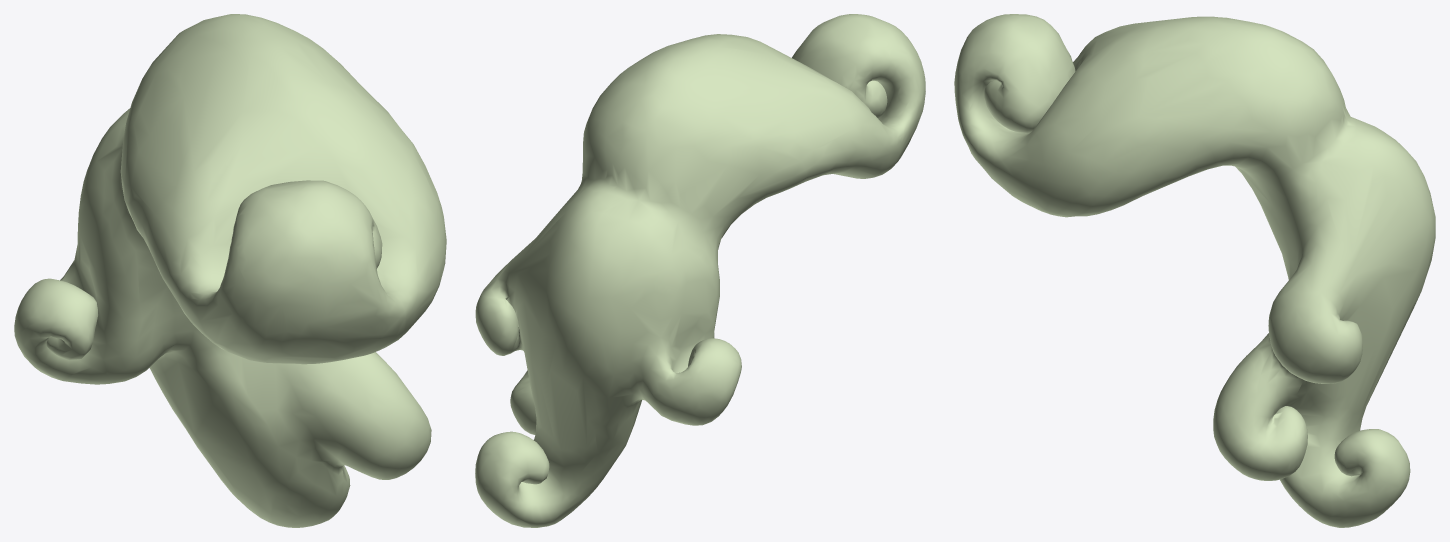
File: Mane_08.fbx
3 views of the same model, side by side, from view 1: azimuth 30°, elevation 25°; view 2: azimuth 150°, elevation 25°; view 3: azimuth 270°, elevation 25° (orthographic). The views are drawn at different scales.
Parts seen in each view (by area): view 1: Mane_08; view 2: Mane_08; view 3: Mane_08.
Boxes of the visible parts, x1=… form: Mane_08: x1=14, y1=14, x2=446, y2=527; Mane_08: x1=475, y1=14, x2=925, y2=527; Mane_08: x1=954, y1=14, x2=1435, y2=527.
Size of the model in its own units: 177 by 267 by 256.
